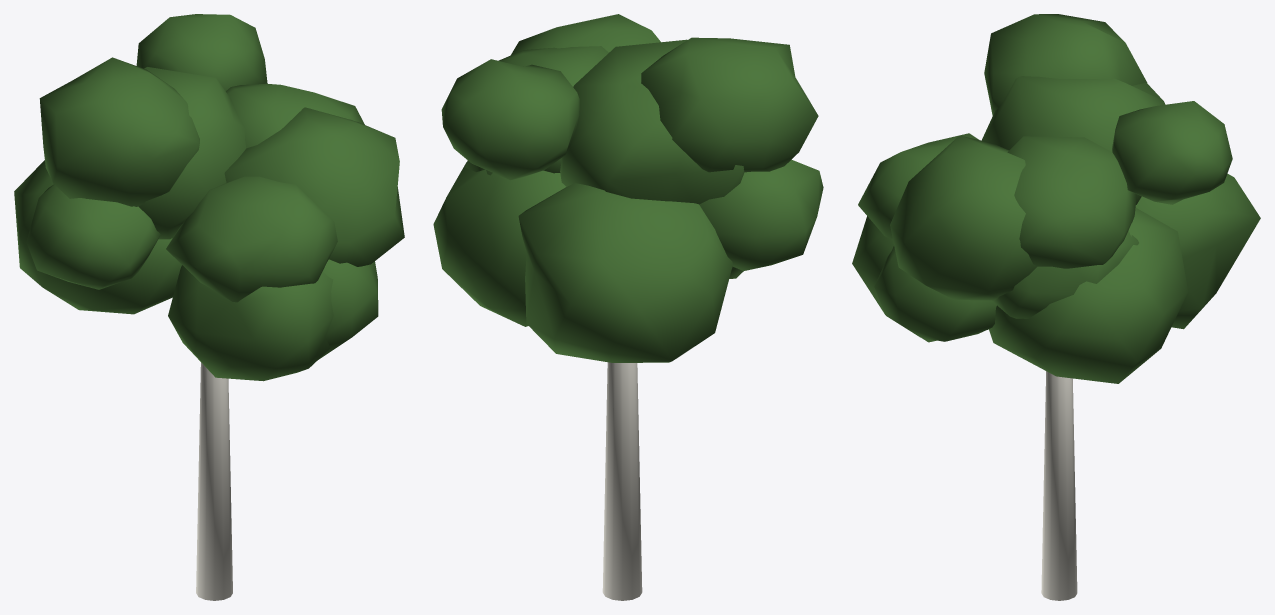
Rendered from birch.glb.
3 views of the same model, side by side, from view 1: azimuth 30°, elevation 25°; view 2: azimuth 150°, elevation 25°; view 3: azimuth 270°, elevation 25° (orthographic). The views are drawn at different scales.
Parts seen in each view (by area): view 1: Leaf0; view 2: Leaf0; view 3: Leaf0.
Boxes of the visible parts, x1,y1,x2,y2 form: Leaf0: (14,14,404,600); Leaf0: (433,14,823,600); Leaf0: (852,14,1260,600).
Bounding box in the file's own units: 4.15 × 6.43 × 4.55.
